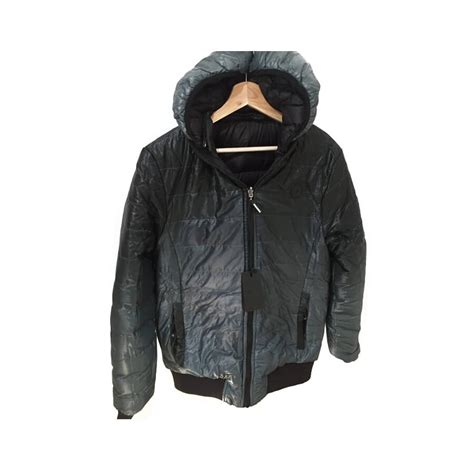nylon: (110, 51, 367, 419)
